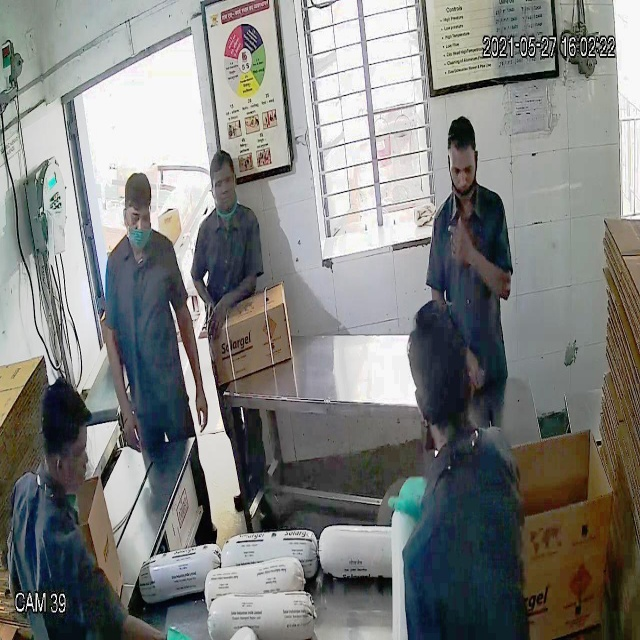Sin_gafas: (443, 154, 484, 187), (119, 200, 156, 235)
